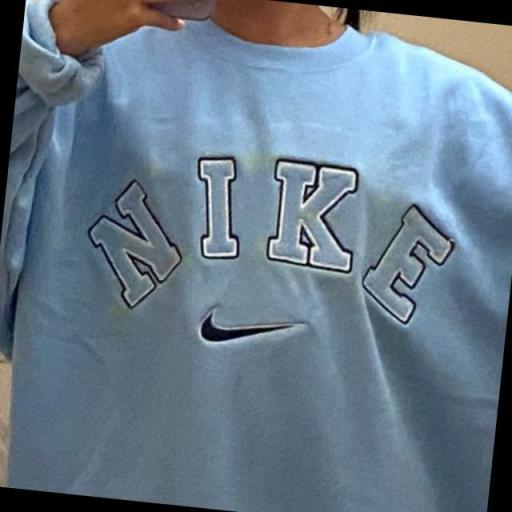Nike: (197, 308, 302, 354)
